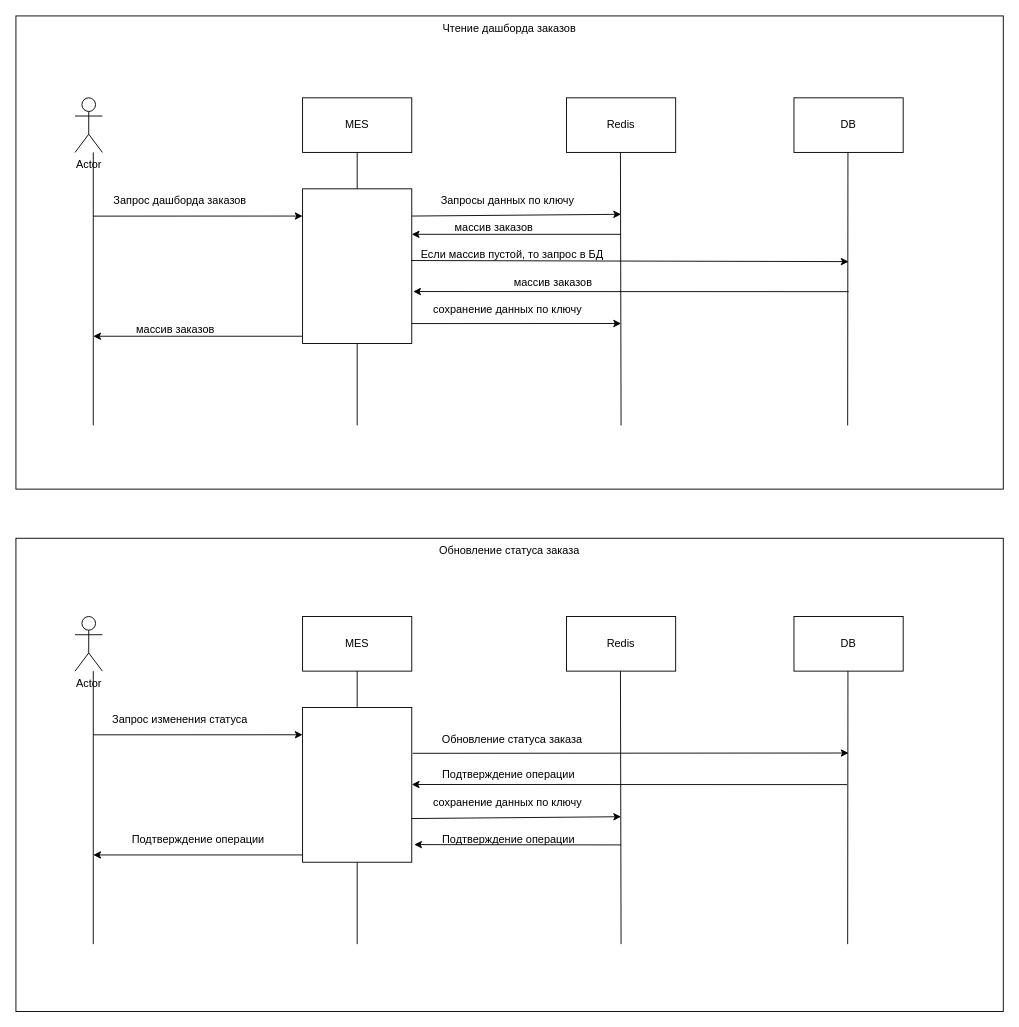
Some shapes in this 1019 by 1027 pixel diagram are drawn without their labels. The shapes that lost their labels are listed below. From the top down, each one's centre as x and y in pixels, then its label:
At point 357,266: "Обработка запроса получения дашборда заказа".
At point 357,784: "Обработка запроса изменения статуса заказа".
